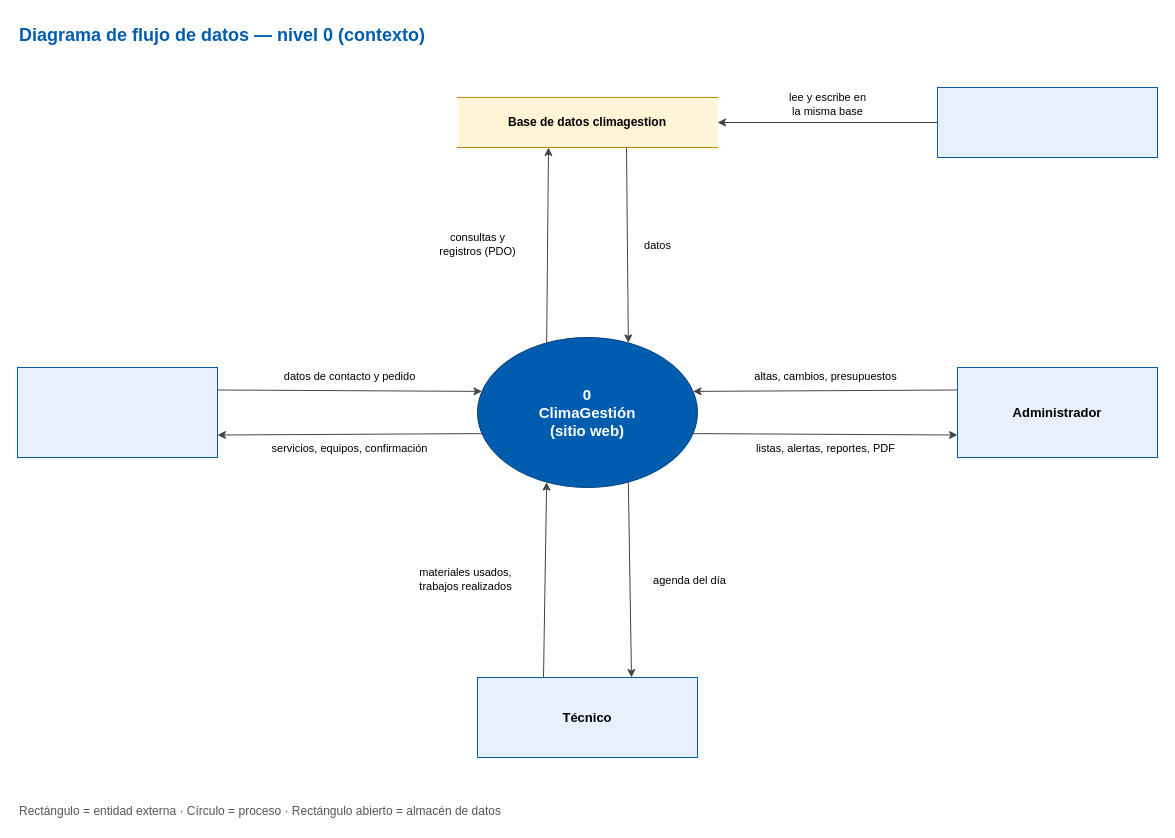
The diagram is 1175 pixels wide and 838 high, and some of its shapes have lost their labels. Here are the shapes that lost their labels. From the top down, the centre of each, then its label:
At (x=1047, y=122): "Programa de escritorio (C#)".
At (x=117, y=412): "Visitante / cliente".
